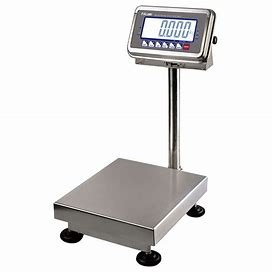Industrial Scale: (52, 4, 220, 268)
